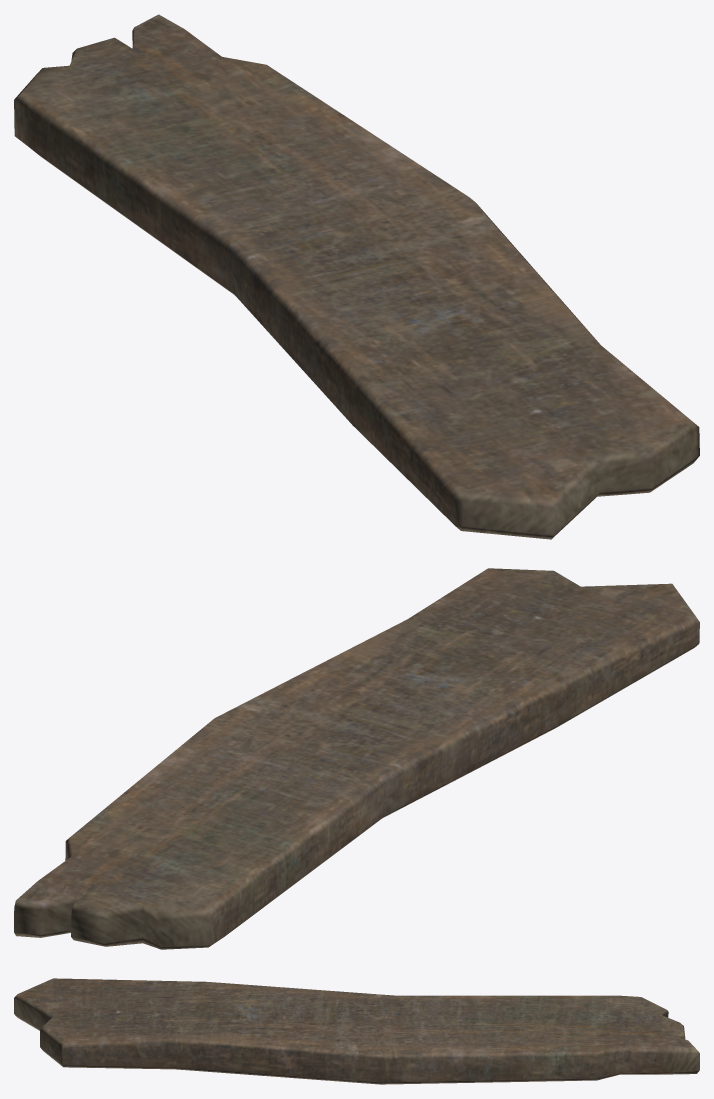
Rendered from SM_Plank_04.fbx.
3 renders of one model, top to bottom at view 1: azimuth 30°, elevation 25°; view 2: azimuth 150°, elevation 25°; view 3: azimuth 270°, elevation 25°, orthographic. The views are drawn at different scales.
Visible parts, largest first — view 1: SM_Plank_04_LOD0; view 2: SM_Plank_04_LOD0; view 3: SM_Plank_04_LOD0.
Part boxes in pixels (<box>): SM_Plank_04_LOD0: <box>14,14,699,539</box>; SM_Plank_04_LOD0: <box>14,568,699,949</box>; SM_Plank_04_LOD0: <box>14,978,699,1084</box>.
Size of the model in its own units: 31.42 by 106 by 5.85.
Materials: 1 (1 with a texture image).
